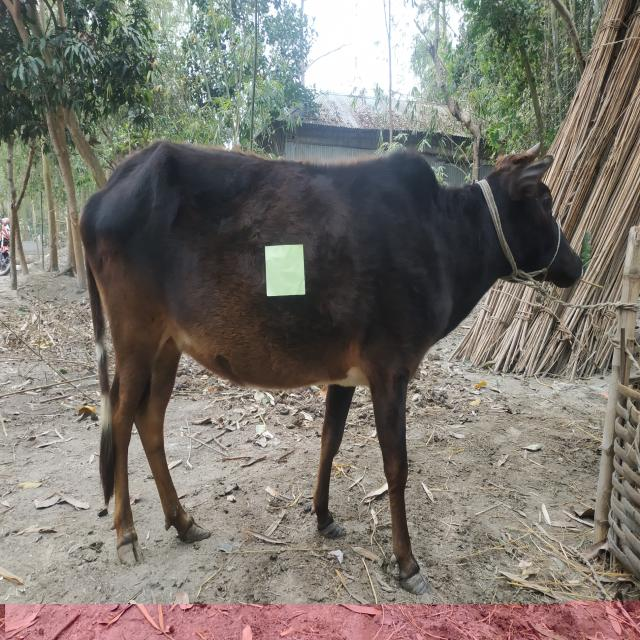badan_sapi: (114, 162, 412, 389)
sapi: (68, 137, 594, 591)
